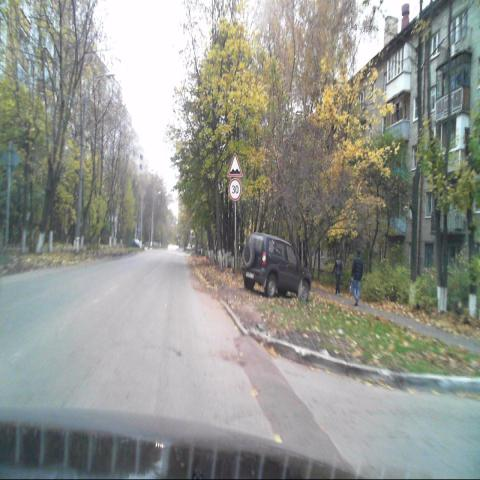1_16: (227, 154, 242, 178)
